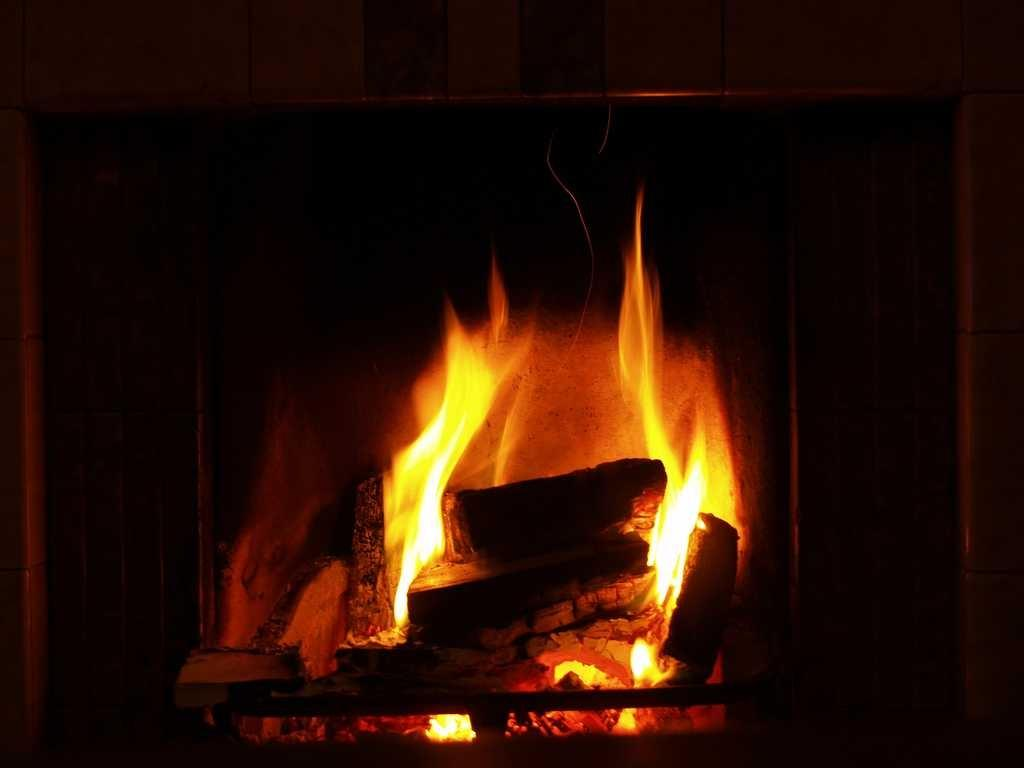fire: (410, 364, 484, 494), (620, 348, 702, 456), (678, 484, 726, 556)
